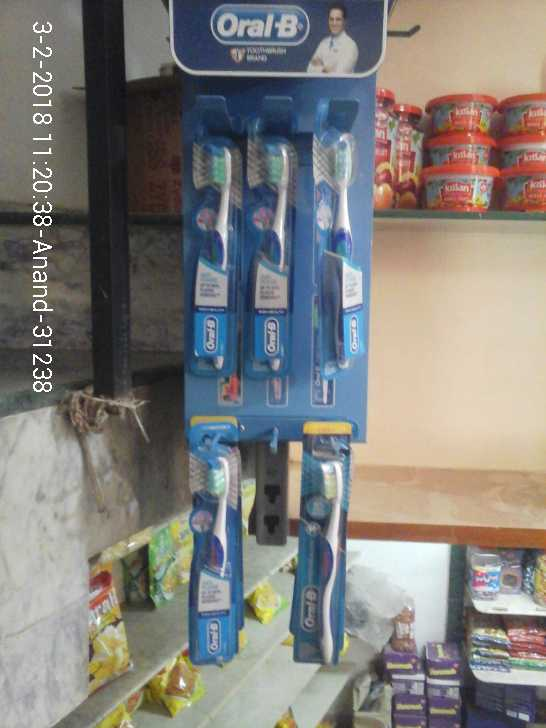oralb: (306, 128, 371, 378), (184, 441, 251, 672), (184, 138, 240, 382), (248, 146, 300, 378), (293, 439, 345, 661)
